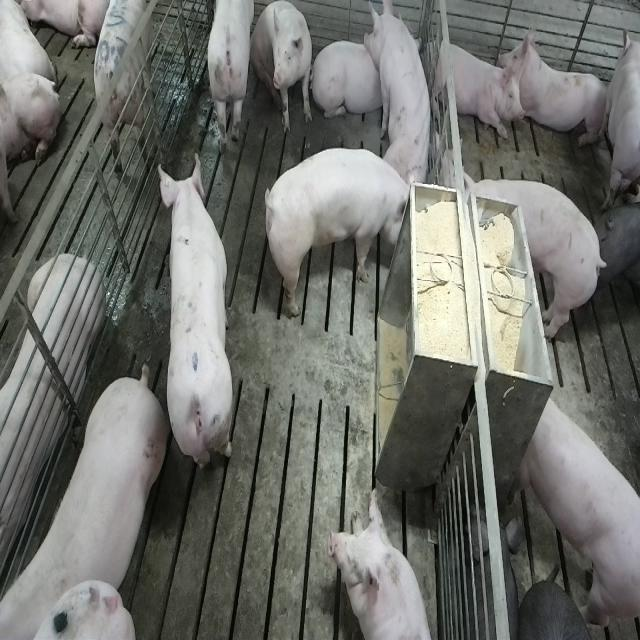Feeding: (267, 140, 418, 320)
Sitting: (366, 0, 435, 183), (251, 1, 314, 135)
Standing: (518, 392, 638, 632), (158, 151, 235, 478), (513, 174, 609, 332), (91, 1, 158, 174), (204, 2, 252, 151), (606, 22, 640, 206), (597, 198, 640, 318)
Sternal_lying: (0, 248, 102, 577), (329, 481, 437, 640), (502, 19, 610, 146), (426, 30, 522, 140), (314, 33, 386, 121)
